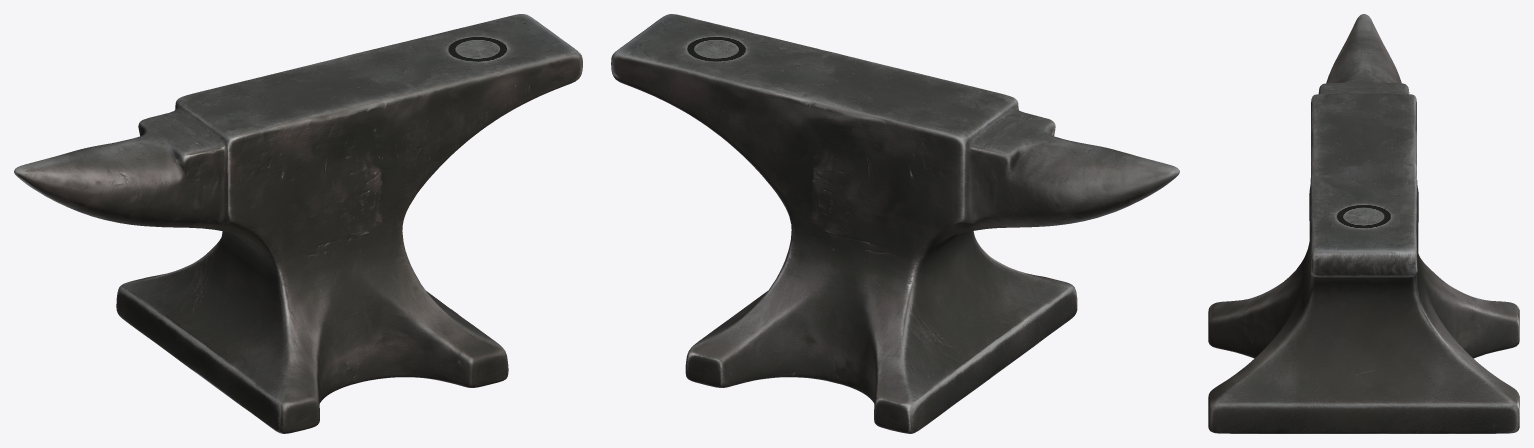
The model's file is anvil.glb.
The picture shows the model from 3 angles, left to right: view 1: azimuth 30°, elevation 25°; view 2: azimuth 150°, elevation 25°; view 3: azimuth 270°, elevation 25°; orthographic projection. The views are drawn at different scales.
Parts seen in each view (by area): view 1: Mesh_0; view 2: Mesh_0; view 3: Mesh_0.
Boxes of the visible parts, x1,y1,x2,y2 form: Mesh_0: [14, 14, 582, 433]; Mesh_0: [611, 14, 1179, 433]; Mesh_0: [1208, 14, 1519, 433].
Size of the model in its own units: 1.91 by 0.873 by 1.02.
Materials: 1 (1 with a texture image).
